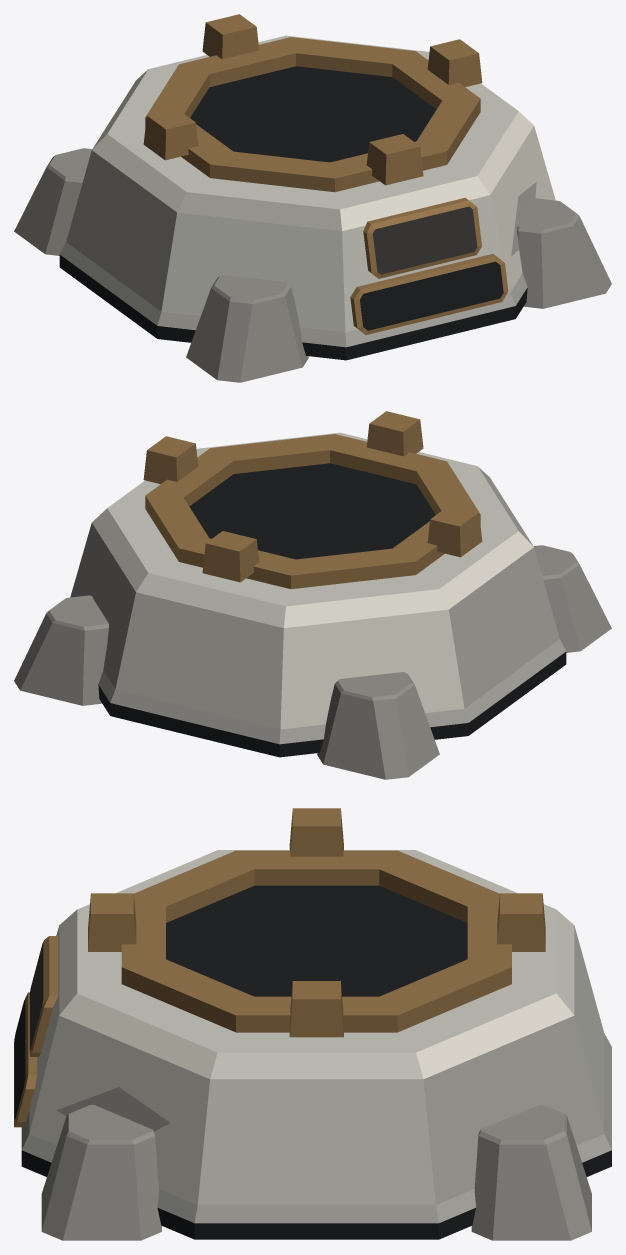
Rendered from BIY_MedievalStone_TimerPedestal.fbx.
3 renders of one model, top to bottom at view 1: azimuth 30°, elevation 25°; view 2: azimuth 150°, elevation 25°; view 3: azimuth 270°, elevation 25°, orthographic. The views are drawn at different scales.
Parts seen in each view (by area): view 1: Stone_CarvedBody_WithFeet, Bronze_Socket_And_MetalTrims, CandleSocket_Interior, Countdown_Screen_Empty, NodeType_Badge_Empty; view 2: Stone_CarvedBody_WithFeet, Bronze_Socket_And_MetalTrims, CandleSocket_Interior; view 3: Stone_CarvedBody_WithFeet, Bronze_Socket_And_MetalTrims, CandleSocket_Interior, Countdown_Screen_Empty, NodeType_Badge_Empty.
Boxes of the visible parts, x1=… form: Stone_CarvedBody_WithFeet: x1=14, y1=35, x2=611, y2=382; Bronze_Socket_And_MetalTrims: x1=143, y1=14, x2=508, y2=334; CandleSocket_Interior: x1=190, y1=66, x2=436, y2=162; Countdown_Screen_Empty: x1=360, y1=261, x2=503, y2=330; NodeType_Badge_Empty: x1=373, y1=206, x2=477, y2=274; Stone_CarvedBody_WithFeet: x1=14, y1=432, x2=611, y2=779; Bronze_Socket_And_MetalTrims: x1=143, y1=411, x2=482, y2=589; CandleSocket_Interior: x1=189, y1=463, x2=435, y2=559; Stone_CarvedBody_WithFeet: x1=21, y1=850, x2=611, y2=1240; Bronze_Socket_And_MetalTrims: x1=14, y1=808, x2=545, y2=1127; CandleSocket_Interior: x1=166, y1=885, x2=467, y2=996; Countdown_Screen_Empty: x1=14, y1=999, x2=25, y2=1120; NodeType_Badge_Empty: x1=29, y1=942, x2=43, y2=1050.
Bounding box in the file's own units: 0.7853 × 0.318 × 0.7955.
